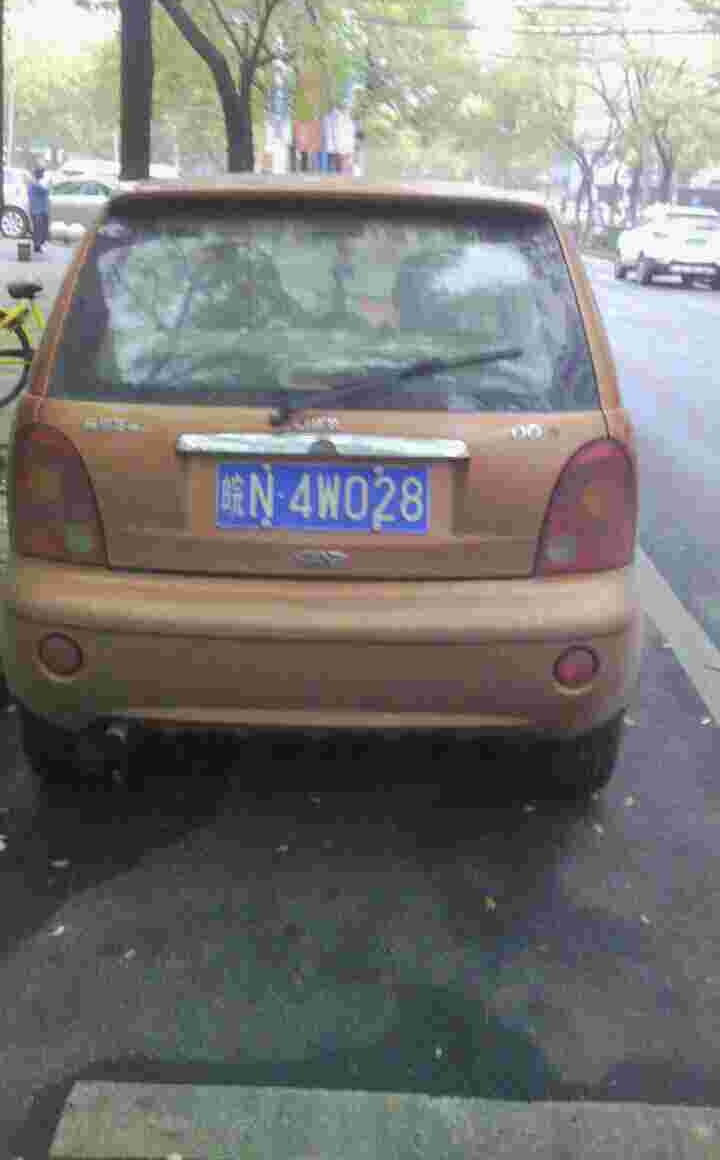license_plate: (211, 466, 433, 535)
